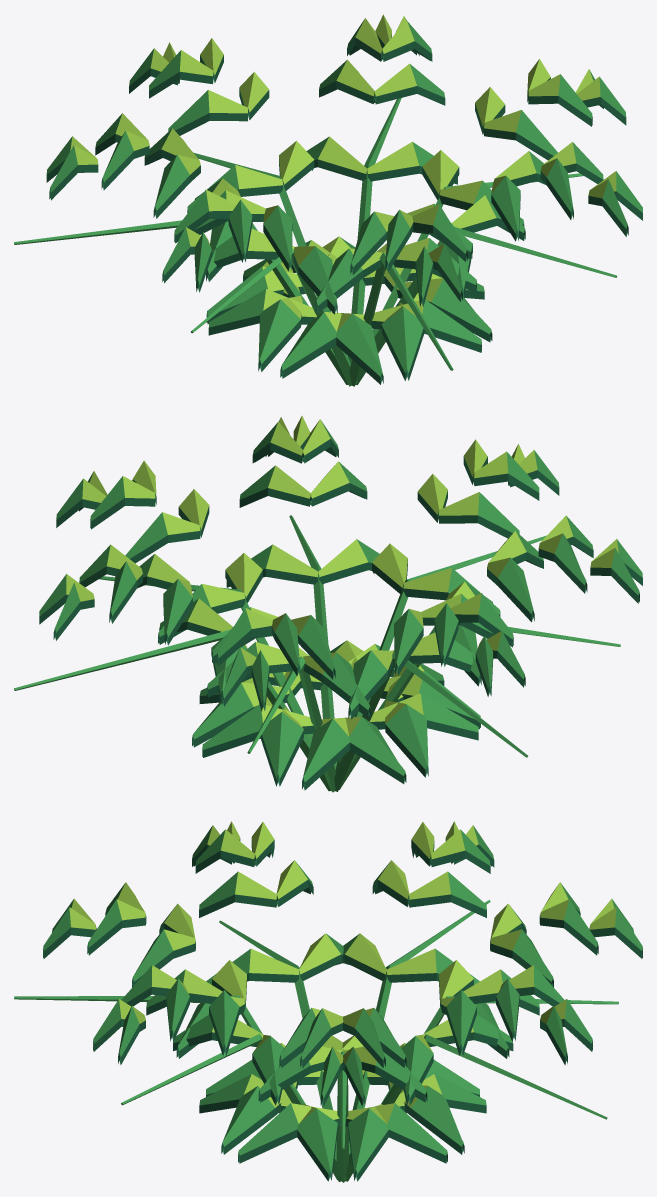
File: Samambaia.fbx
3 views of the same model, one above another, from view 1: azimuth 30°, elevation 25°; view 2: azimuth 150°, elevation 25°; view 3: azimuth 270°, elevation 25° (orthographic).
Parts seen in each view (by area): view 1: Samambaia_Folha_1, Samambaia_Folha_2, Samambaia_Folha_3; view 2: Samambaia_Folha_1, Samambaia_Folha_2, Samambaia_Folha_3; view 3: Samambaia_Folha_1, Samambaia_Folha_2, Samambaia_Folha_3.
Part boxes in pixels (<box>): Samambaia_Folha_1: <box>14,18,642,386</box>; Samambaia_Folha_2: <box>70,14,616,331</box>; Samambaia_Folha_3: <box>46,34,642,384</box>; Samambaia_Folha_1: <box>14,418,642,792</box>; Samambaia_Folha_2: <box>66,415,618,736</box>; Samambaia_Folha_3: <box>39,436,642,790</box>; Samambaia_Folha_1: <box>14,825,642,1182</box>; Samambaia_Folha_2: <box>69,821,616,1123</box>; Samambaia_Folha_3: <box>43,838,642,1181</box>.
Size of the model in its own units: 559 by 273 by 578.
